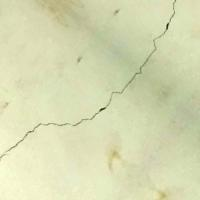crack: (0, 1, 176, 162)
